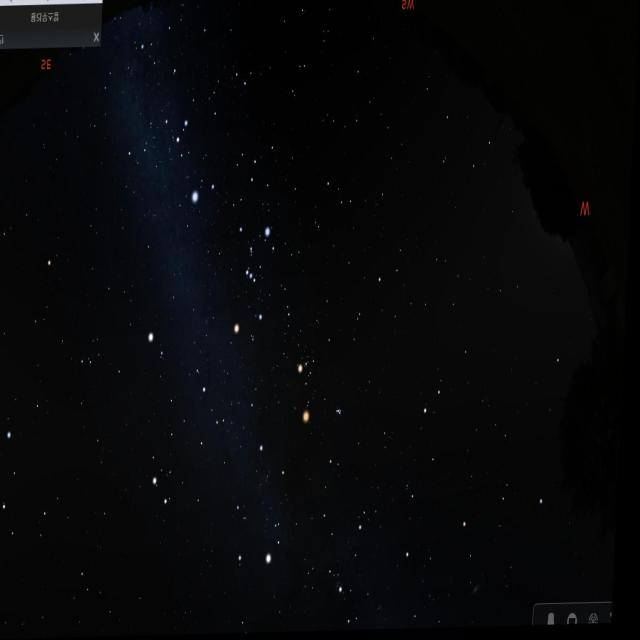canis_major: (176, 114, 228, 213)
canis_minor: (146, 323, 176, 371)
gemini: (149, 358, 252, 520)
orion: (229, 216, 281, 336)
pleiades: (334, 396, 354, 422)
taurus: (299, 326, 361, 432)
